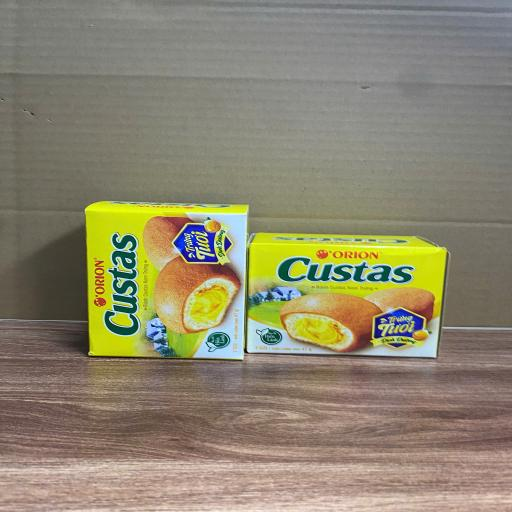custas: (85, 201, 249, 360), (246, 232, 450, 359)
